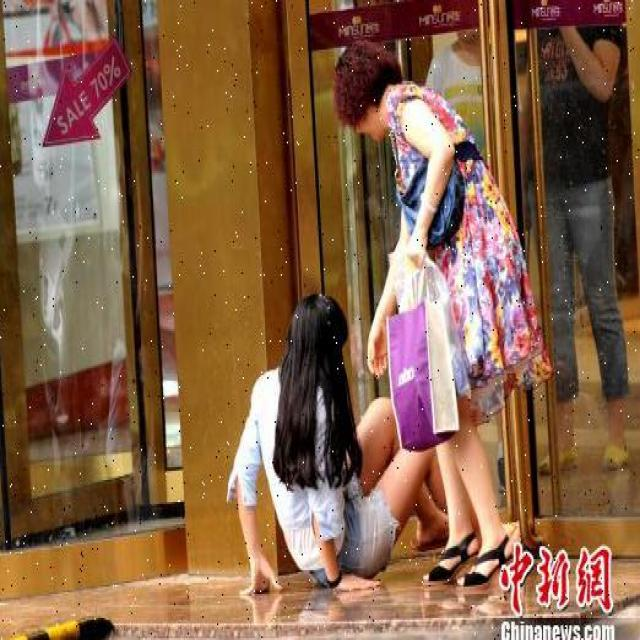fall: (230, 298, 426, 583)
